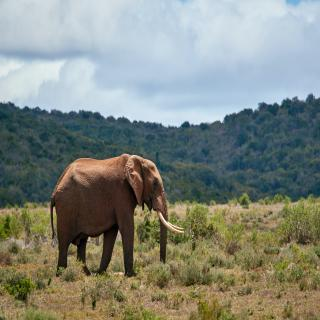Elephant: (49, 152, 188, 280)
